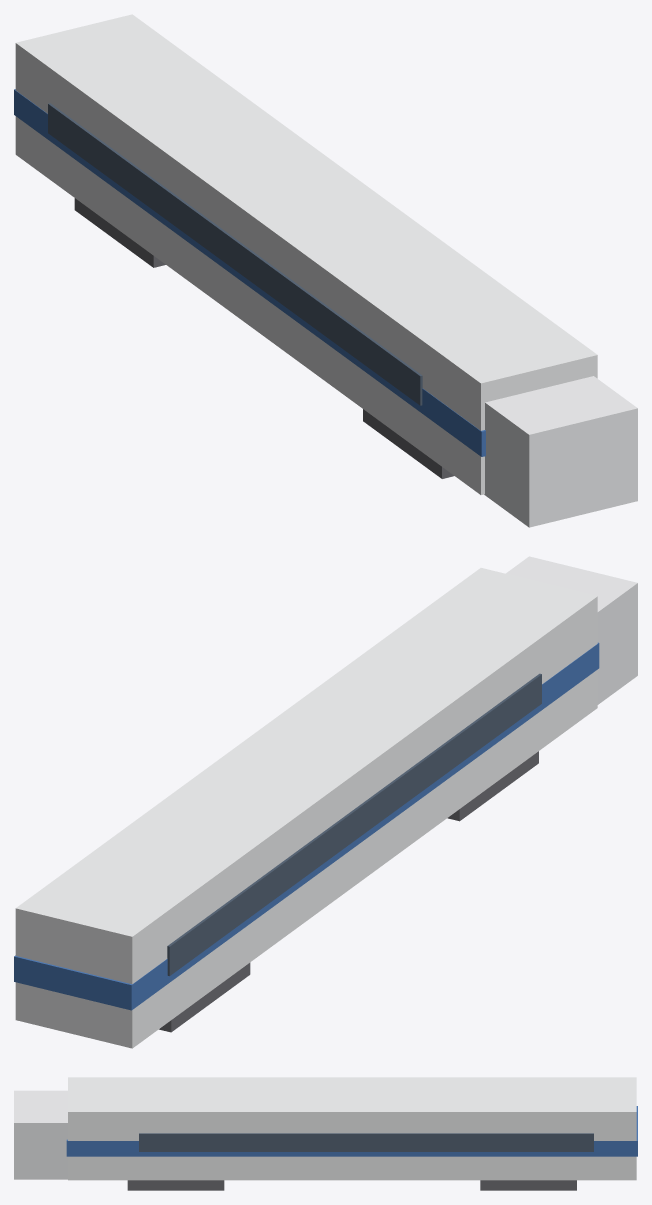
Rendered from AURORA_vande_bharat.glb.
The picture shows the model from 3 angles, top to bottom: view 1: azimuth 30°, elevation 25°; view 2: azimuth 150°, elevation 25°; view 3: azimuth 270°, elevation 25°; orthographic projection. The views are drawn at different scales.
Parts seen in each view (by area): view 1: RootNode; view 2: RootNode; view 3: RootNode.
Boxes of the visible parts, bbox=[...] form: RootNode: bbox=[14, 14, 637, 527]; RootNode: bbox=[14, 556, 637, 1048]; RootNode: bbox=[14, 1077, 637, 1190].
Size of the model in its own units: 3.02 by 3.17 by 21.95.
